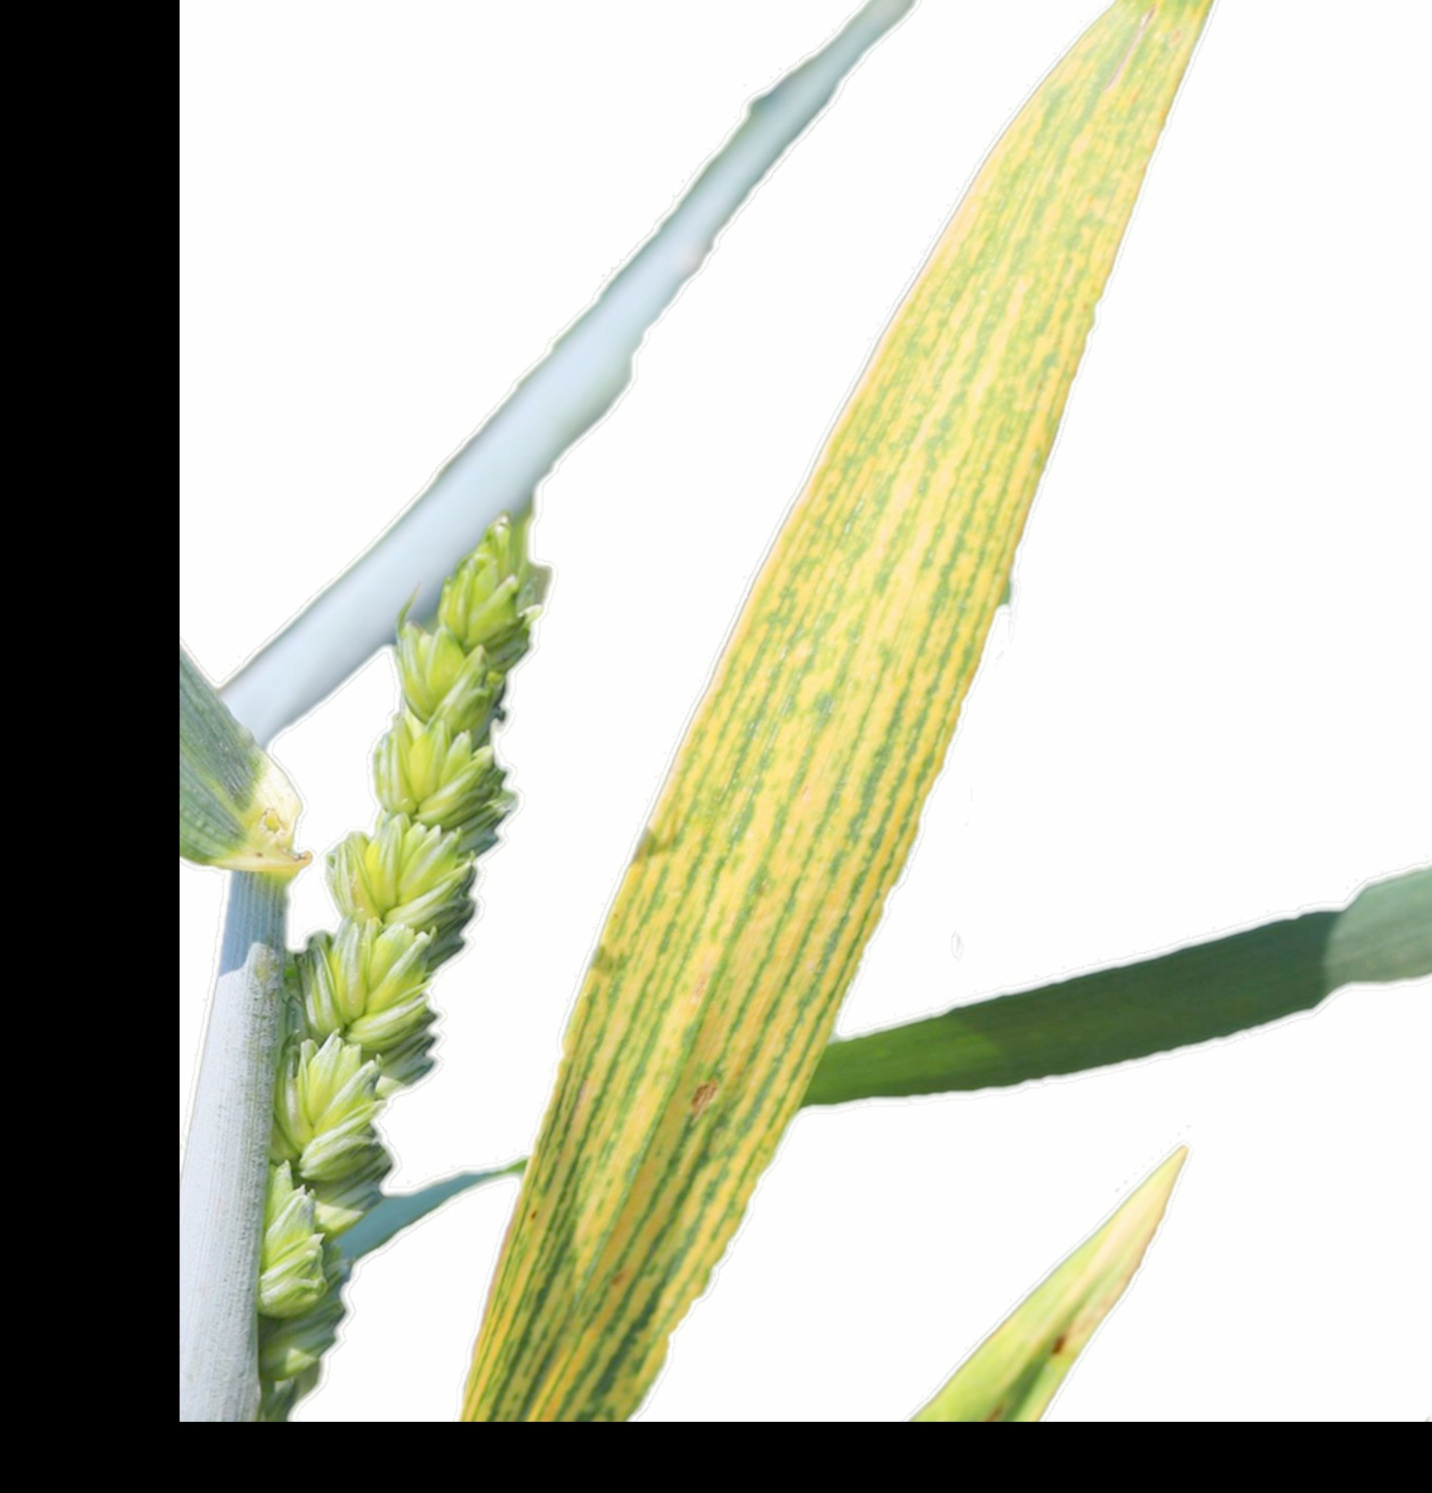wheat: (221, 456, 571, 1418)
